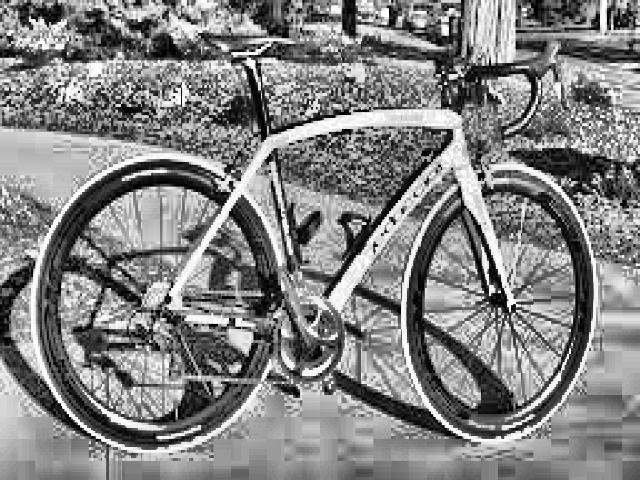cassette: (142, 282, 185, 332)
cranks_set: (277, 272, 346, 383)
rear_derailleur: (128, 312, 184, 380)
saddle: (196, 28, 296, 60)
sti_shifter: (542, 36, 572, 114)
wheel: (20, 151, 282, 461), (399, 162, 602, 448)
